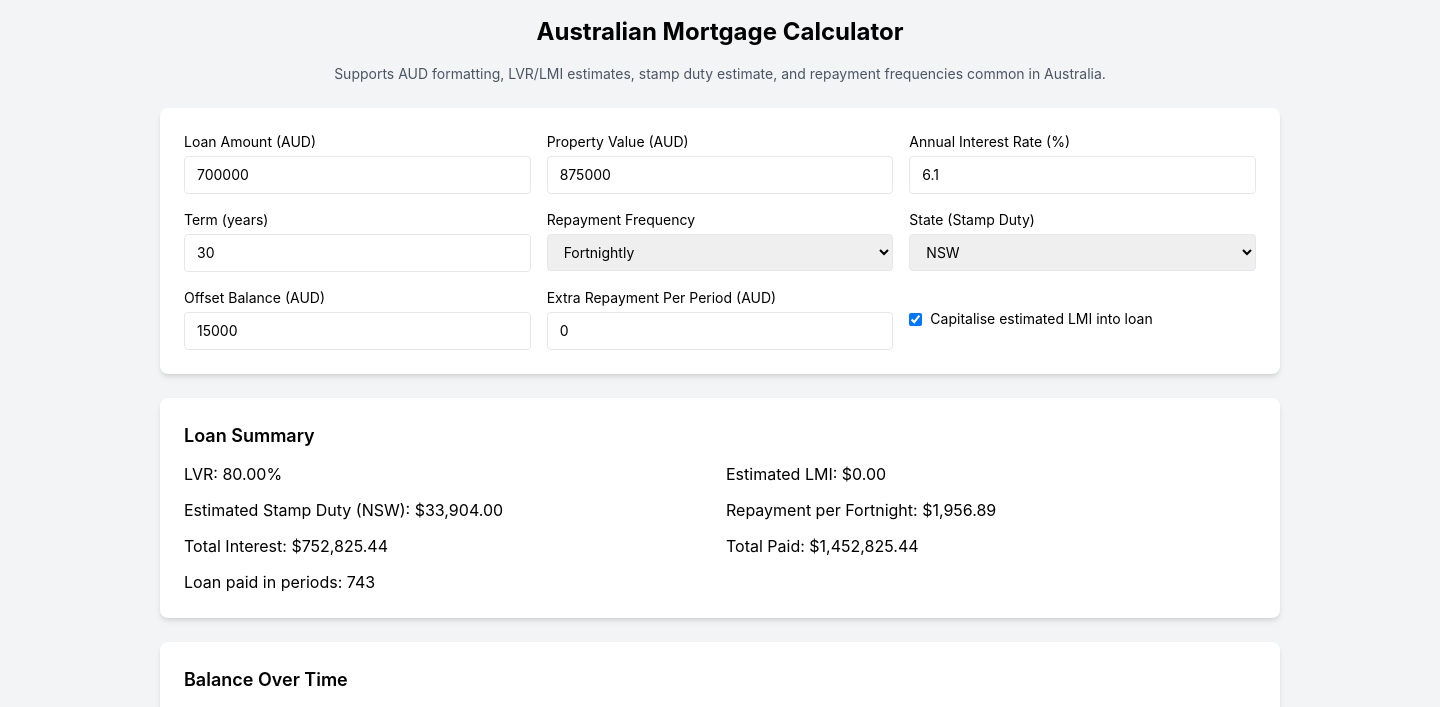
Test: App — repayment frequency labels › switching to monthly shows "Month" label
The width and height of the screenshot is (1440, 707).
Step 1. Select "Monthly" in the dropdown labelled "Repayment Frequency" → [720, 252], box [547, 234, 893, 271]
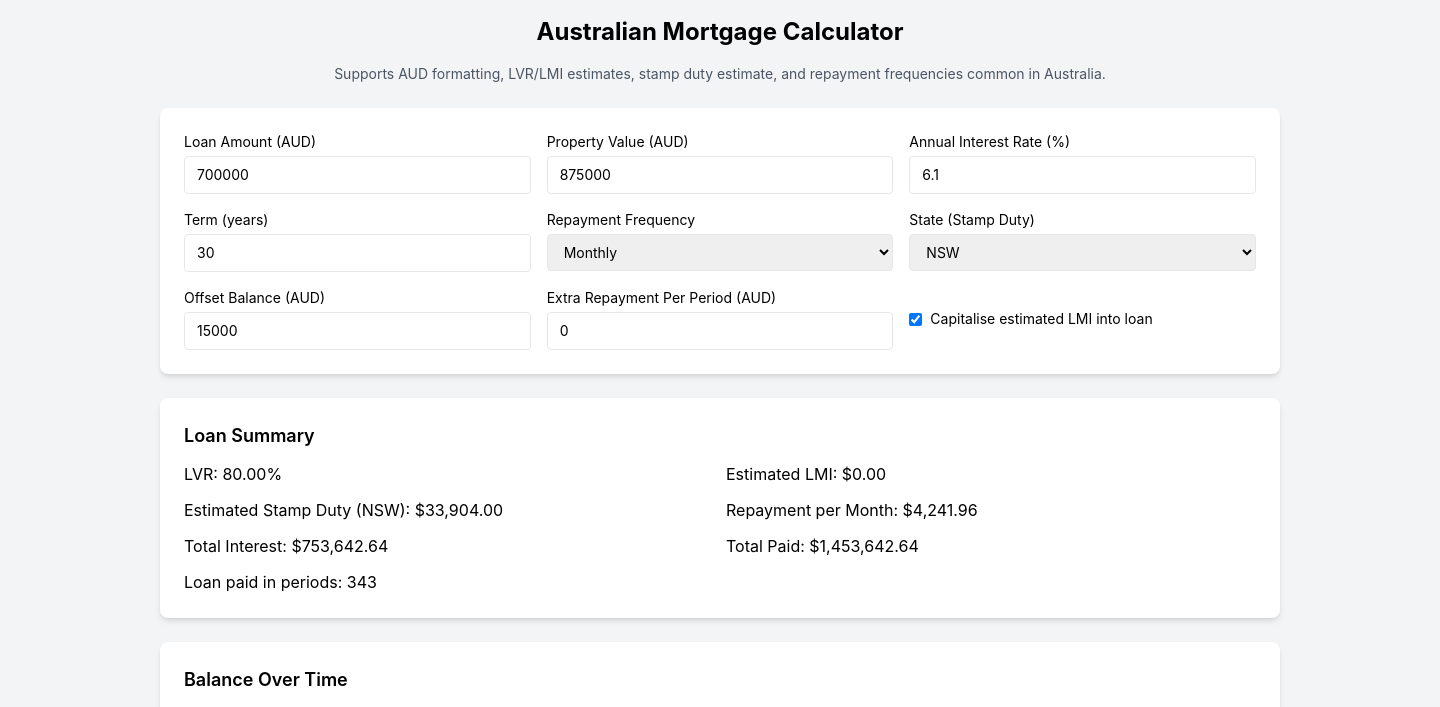
expect the text "Repayment per Month: $4,241.96" is shown: met, box [726, 500, 978, 520]
